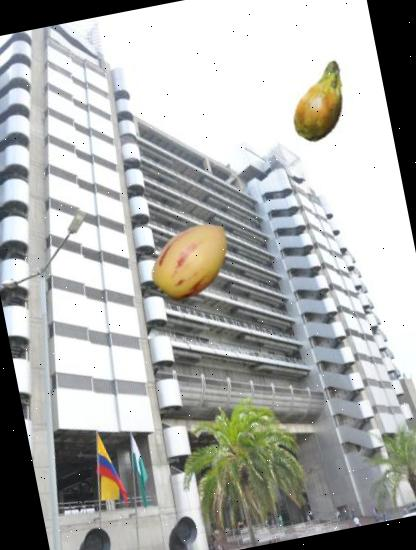Cactus: (275, 52, 373, 150)
Pepino: (139, 206, 246, 314)
